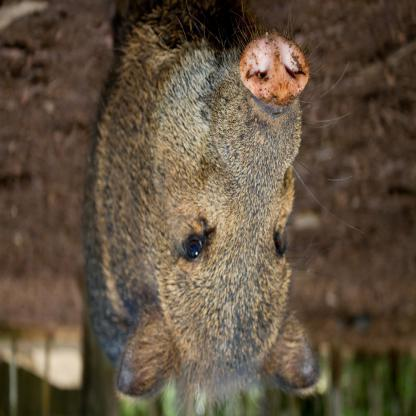boar: (86, 0, 323, 416)
